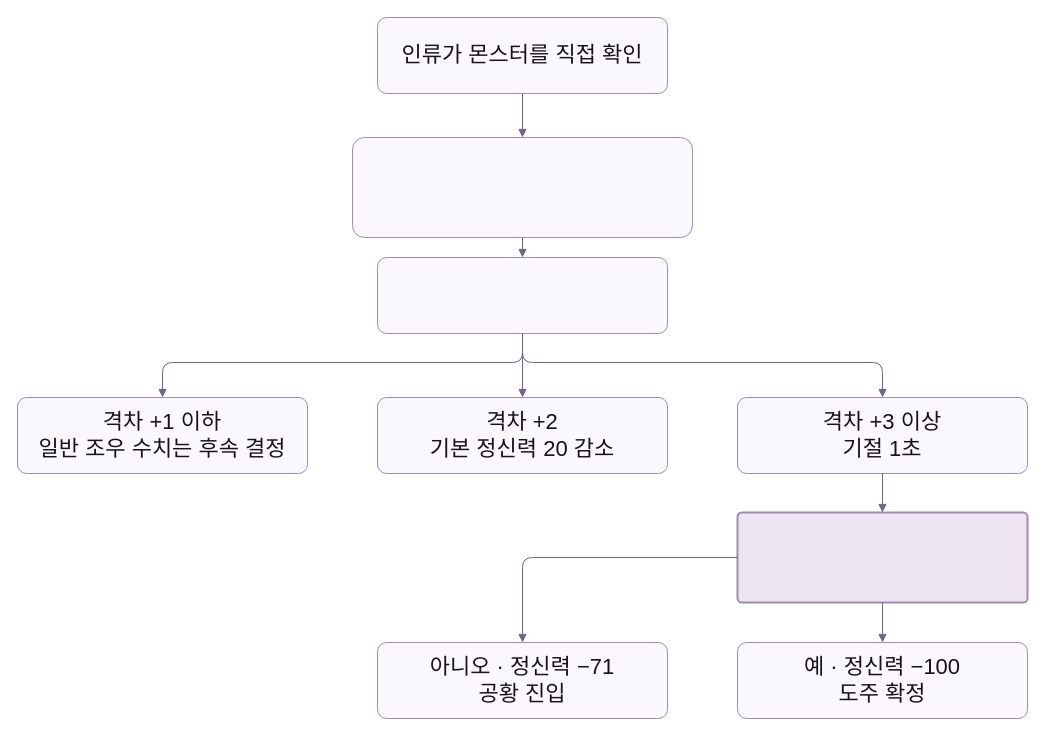
This 1046x736 diagram has some shape labels left out. The shapes that lost their labels are listed below. From the top down, each one's centre as x and y in pixels, then its label:
At point (522, 187): "이 인류가 이번 침공에서 조우 충격 판정을 하지 않은 몬스터 확인".
At point (522, 295): "이번 조우에 적용할 가장 높은 효과 구간 확인".
At point (882, 557): "조우 직전부터 공황이었나?".
